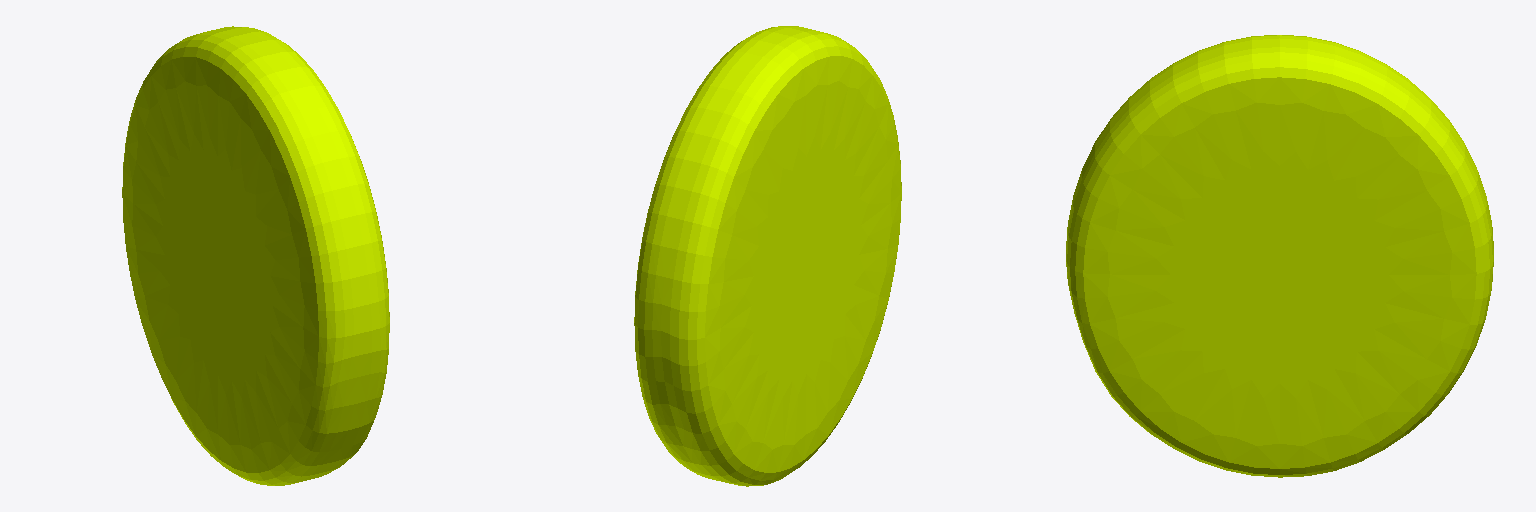
Rendered from original-6.obj.
The picture shows the model from 3 angles: view 1: azimuth 30°, elevation 25°; view 2: azimuth 150°, elevation 25°; view 3: azimuth 270°, elevation 25°; orthographic projection.
Visible parts, largest first — view 1: group_4/ID61#ID61; view 2: group_4/ID61#ID61; view 3: group_4/ID61#ID61.
Boxes of the visible parts, box(x1,y1,x2,y2) form: group_4/ID61#ID61: box(122, 26, 389, 485); group_4/ID61#ID61: box(634, 26, 901, 486); group_4/ID61#ID61: box(1066, 35, 1493, 477).
Size of the model in its own units: 0.0764 by 0.405 by 0.3685.